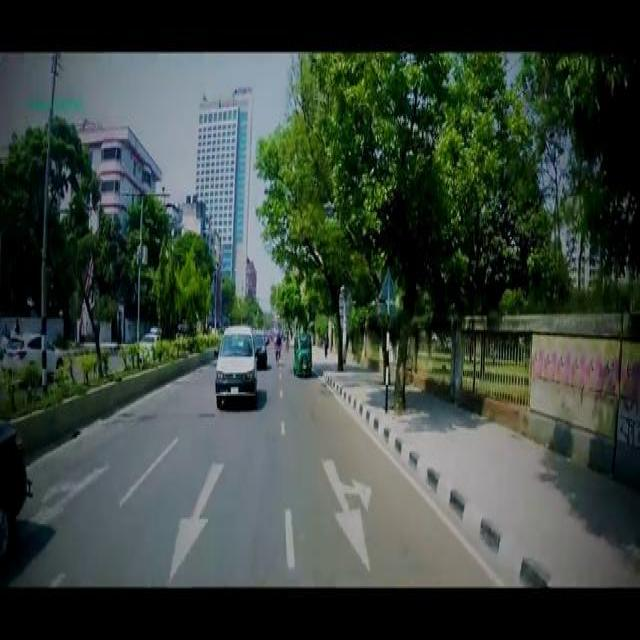bicycle: (274, 341, 280, 360)
car: (2, 331, 64, 374), (252, 327, 266, 363), (138, 330, 156, 342)
minivan: (214, 323, 256, 399)
three wheelers -CNG-: (291, 332, 311, 376)
